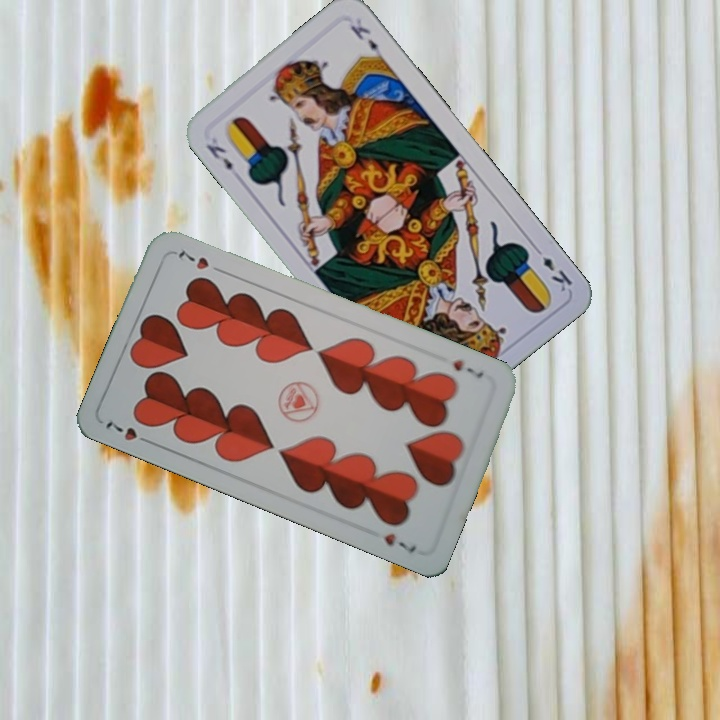EK: (529, 242, 575, 295), (202, 140, 236, 174)
H7: (101, 417, 156, 447), (449, 355, 486, 382)
